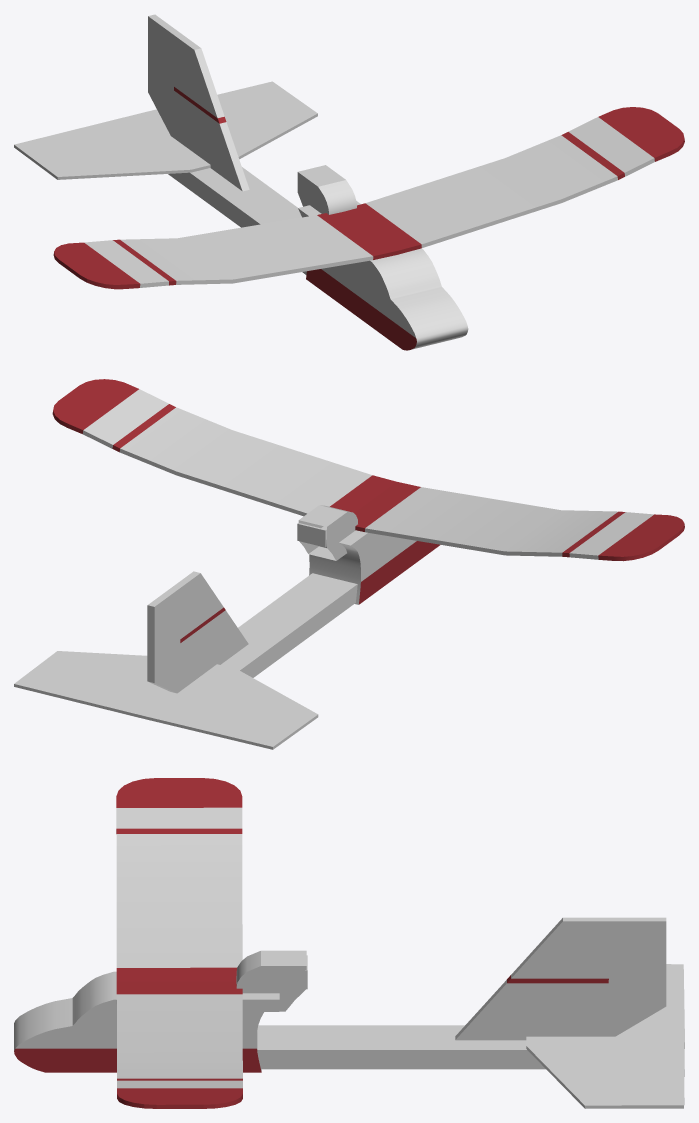
The picture shows the model from 3 angles, top to bottom: view 1: azimuth 30°, elevation 25°; view 2: azimuth 150°, elevation 25°; view 3: azimuth 270°, elevation 25°; orthographic projection. The views are drawn at different scales.
Parts seen in each view (by area): view 1: Plane.013; view 2: Plane.013; view 3: Plane.013.
Boxes of the visible parts, left/top/right/bottom form: Plane.013: left=14, top=14, right=684, bottom=350; Plane.013: left=14, top=379, right=684, bottom=749; Plane.013: left=14, top=778, right=684, bottom=1108.
Size of the model in its own units: 4.45 by 0.8845 by 3.85.
